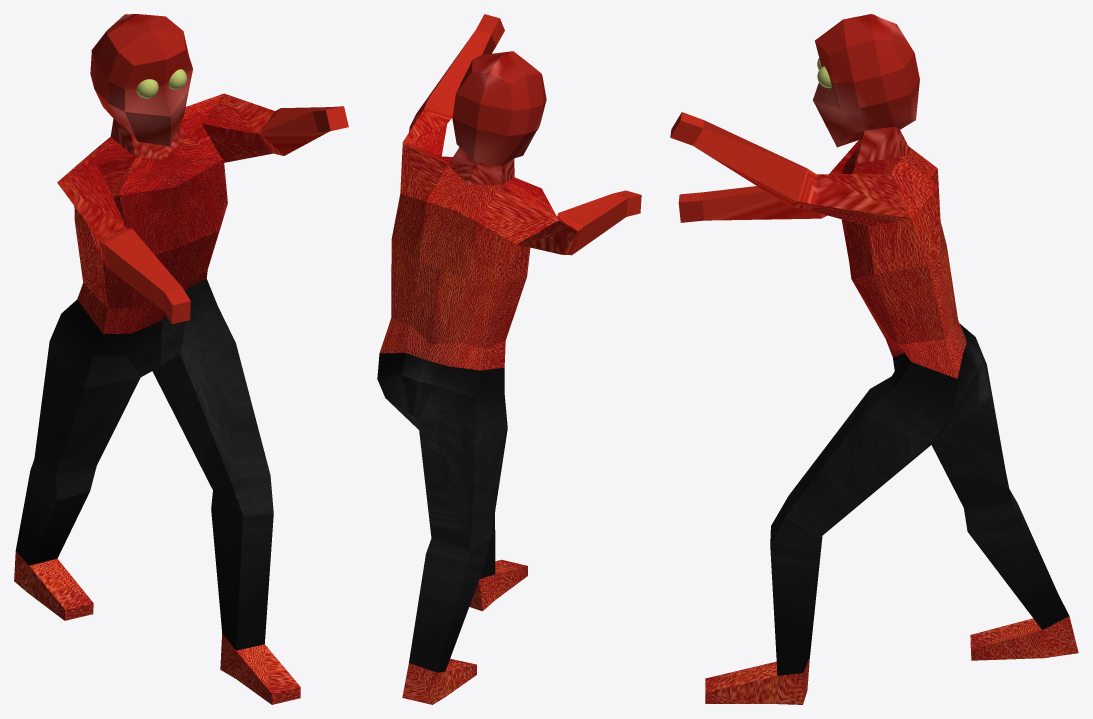
File: laySheary_000022.obj
3 renders of one model, left to right at view 1: azimuth 30°, elevation 25°; view 2: azimuth 150°, elevation 25°; view 3: azimuth 270°, elevation 25°, orthographic. The views are drawn at different scales.
Visible parts, largest first — view 1: Cube; view 2: Cube; view 3: Cube.
Part boxes in pixels (box(x1,y1,x2,y2)): Cube: box(14, 14, 348, 704); Cube: box(377, 14, 641, 704); Cube: box(670, 14, 1078, 704).
Size of the model in its own units: 5.16 by 15.82 by 8.99.
Materials: 3 (2 with a texture image).
